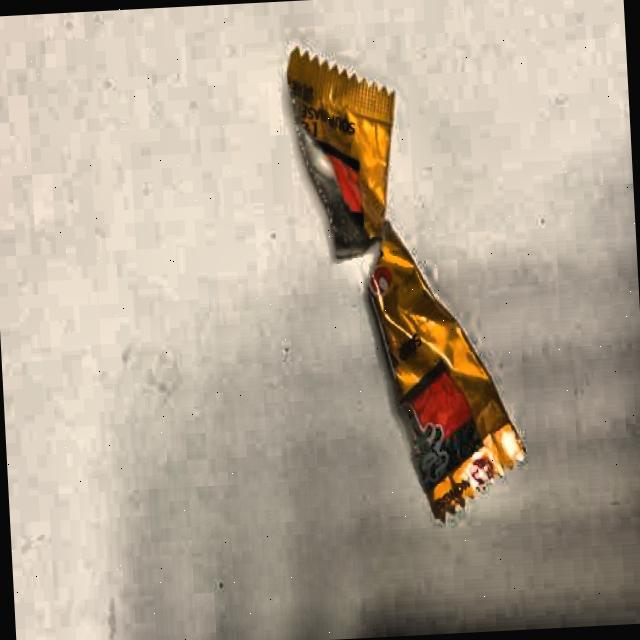trash: (281, 38, 534, 518)
